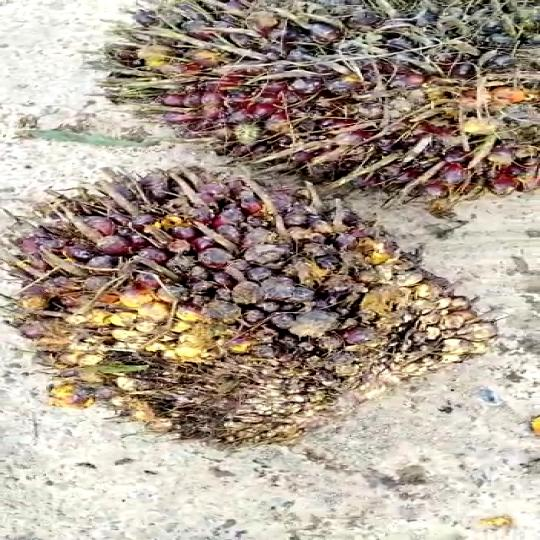kurang masak: (13, 157, 447, 468), (104, 0, 540, 209)
